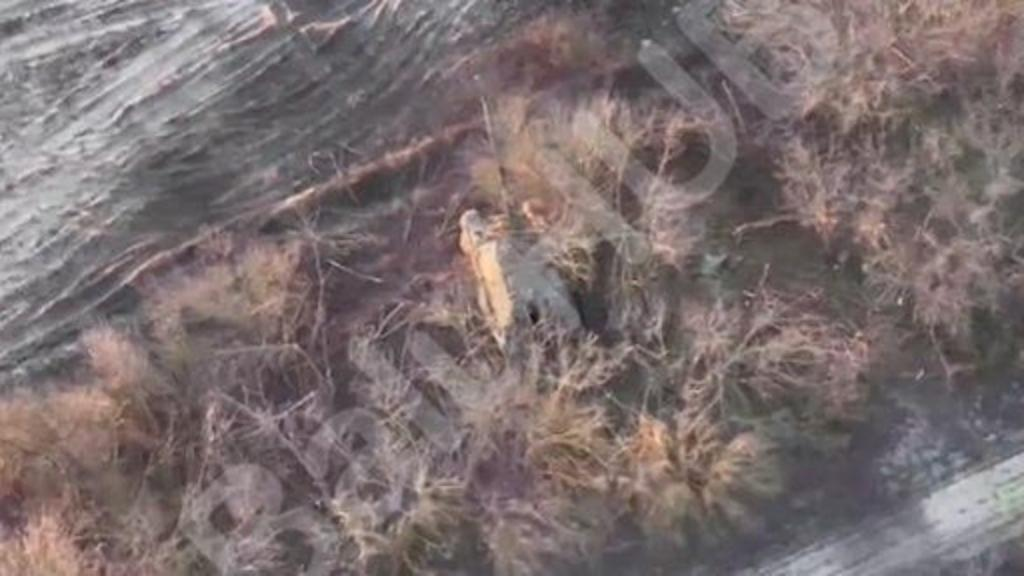ART: (444, 90, 590, 352)
